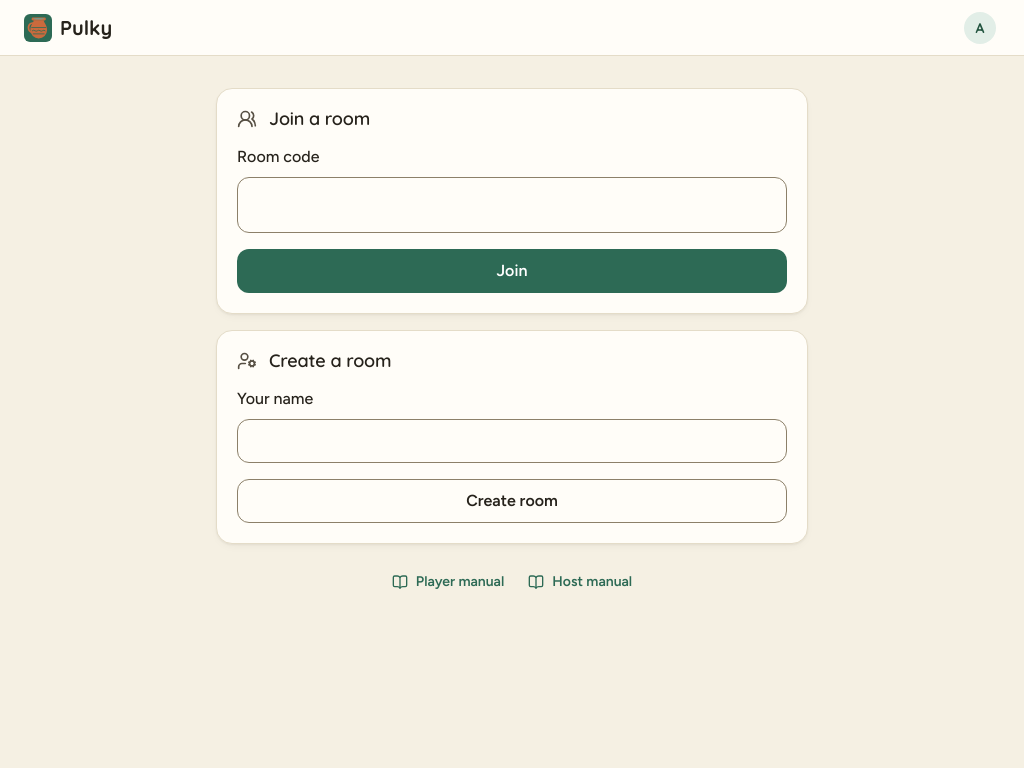
Test: Join a room (criterion 8) › a session token for another room does not count
This screenshot has width=1024, height=768.
Step 1. Type "abc234" into the field labelled "Room code" → x=512, y=205, box [237,177,787,233]
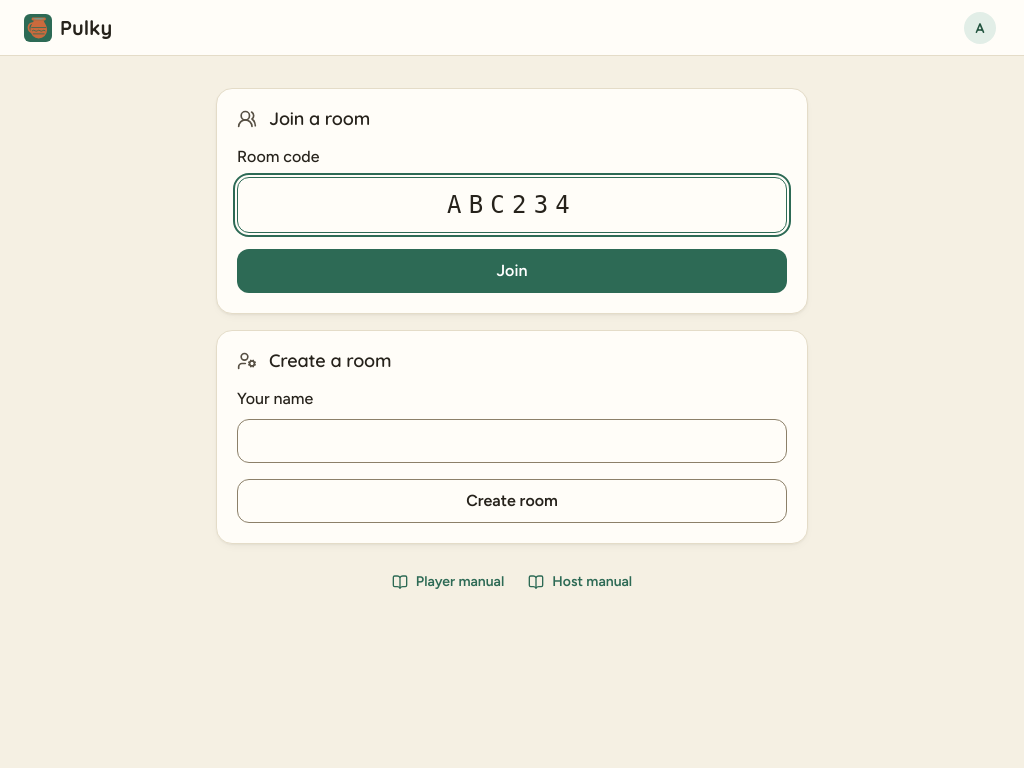
Step 2. Click the button "Join" → x=512, y=271, box [237,249,787,293]
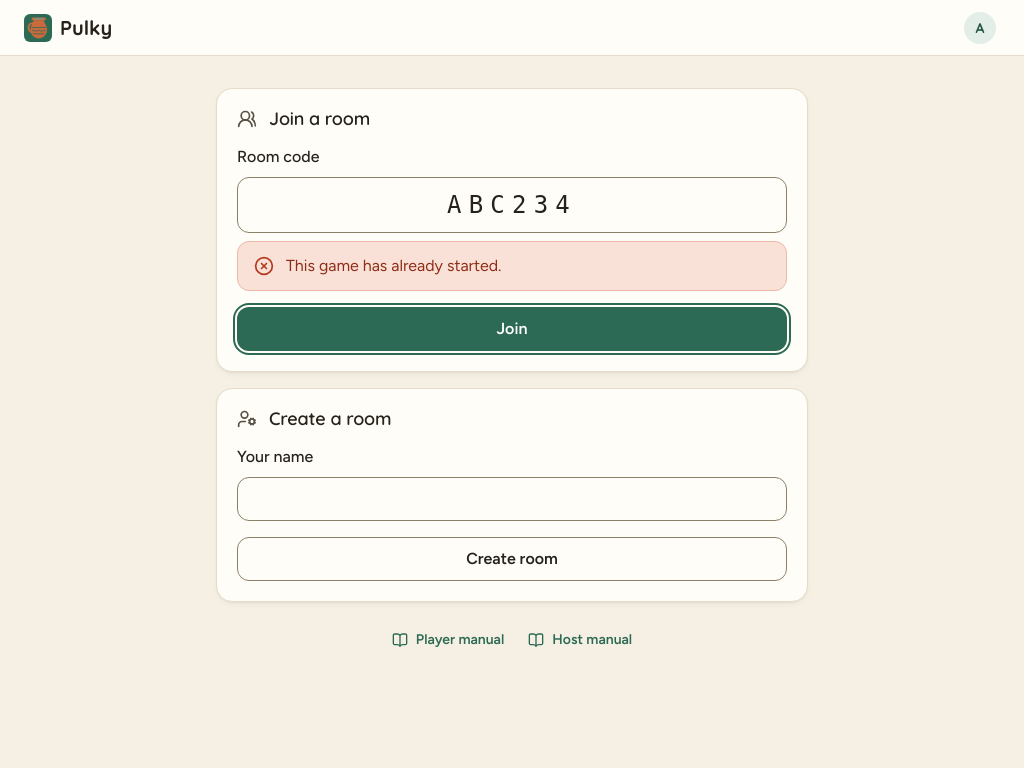
Now the text "This game has already started." is shown, box [286,254,501,278]
